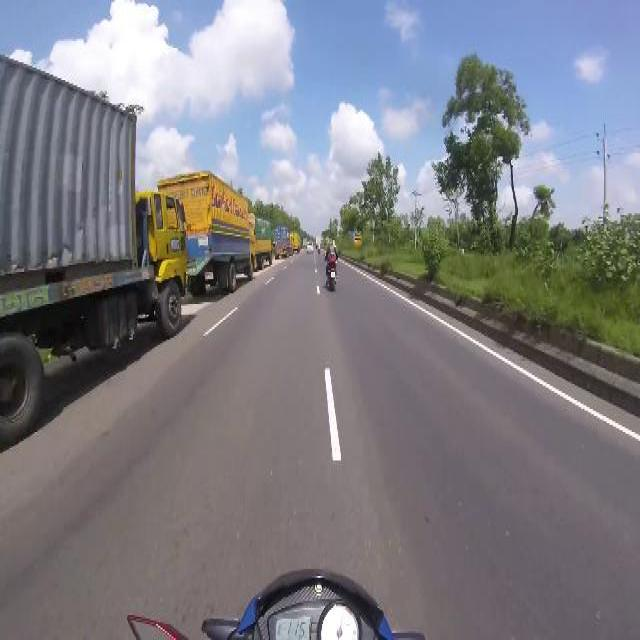motorbike: (118, 568, 398, 637), (324, 238, 336, 292), (318, 241, 320, 253)
truck: (1, 51, 182, 443), (160, 170, 256, 289), (254, 213, 274, 267), (274, 223, 292, 257), (290, 228, 300, 252), (348, 230, 362, 243)
